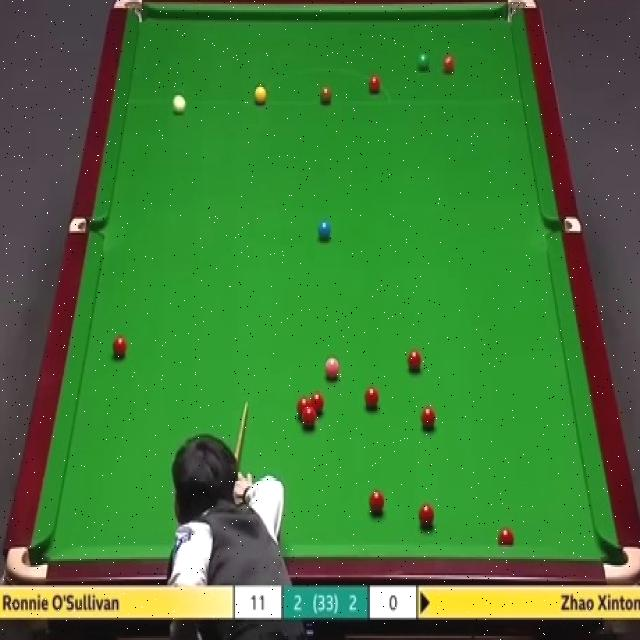blue-ball: (317, 218, 331, 242)
brown-ball: (318, 84, 332, 106)
green-ball: (415, 53, 430, 72)
pink-ball: (324, 353, 340, 380)
red-ball: (406, 348, 423, 377), (368, 488, 385, 516), (111, 334, 128, 361), (418, 503, 434, 530), (363, 386, 379, 412), (420, 404, 435, 429), (310, 392, 324, 418), (498, 527, 514, 546), (442, 55, 456, 76), (303, 409, 316, 429), (297, 397, 310, 417), (368, 74, 380, 94)
white-ball: (170, 91, 188, 115)
yellow-ball: (253, 84, 267, 104)
